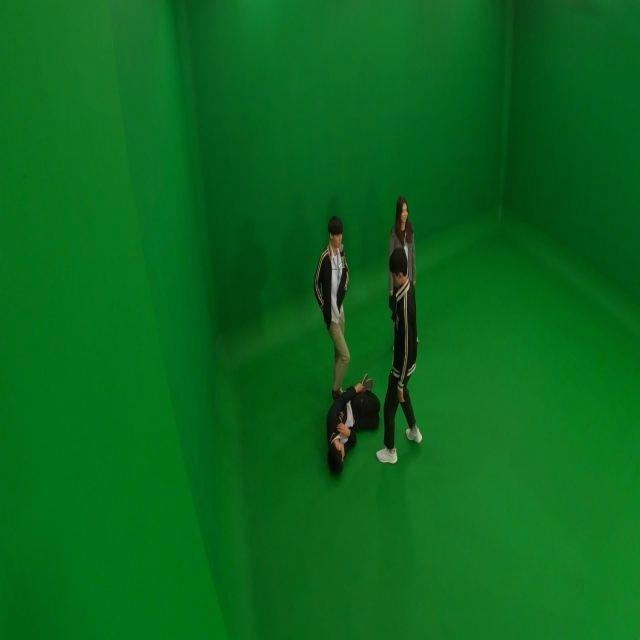fight: (313, 210, 410, 472)
non-fight: (382, 196, 419, 465)
